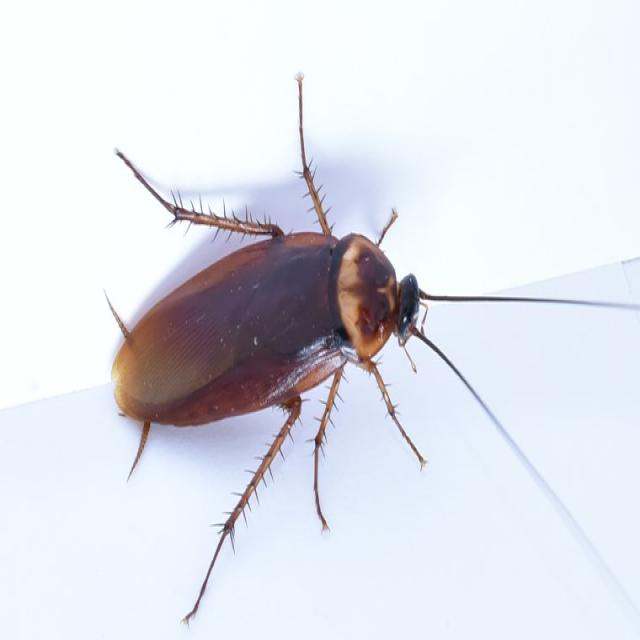Cockroach: (85, 127, 444, 562)
